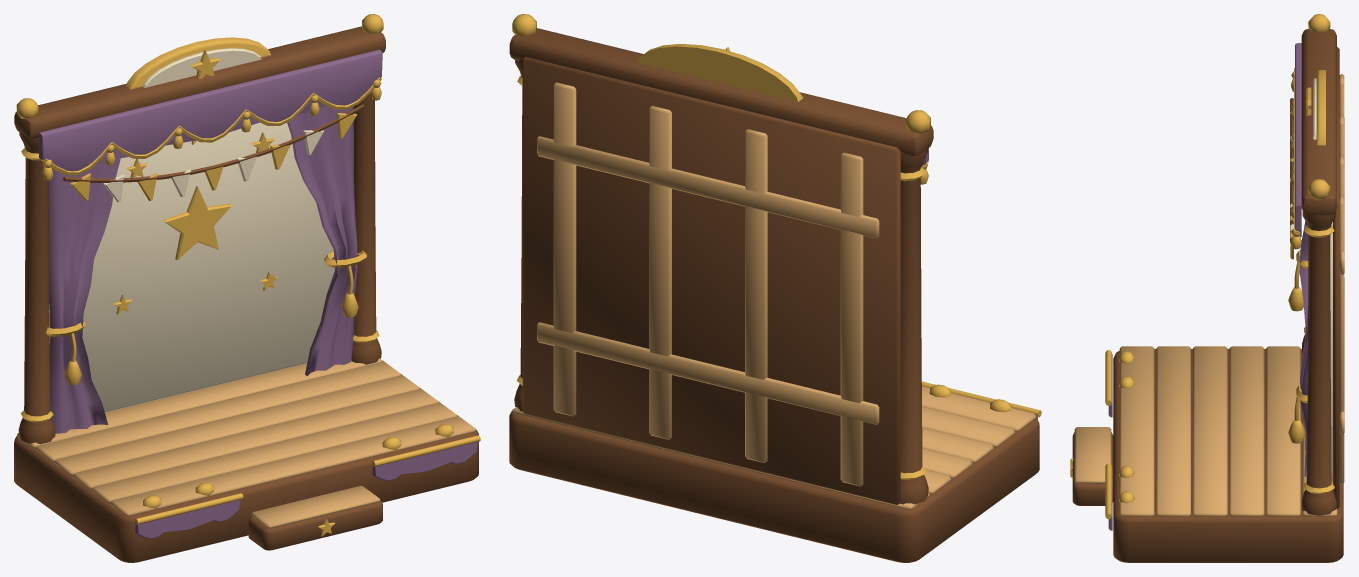
File: ShopStage.fbx
3 views of the same model, side by side, from view 1: azimuth 30°, elevation 25°; view 2: azimuth 150°, elevation 25°; view 3: azimuth 270°, elevation 25° (orthographic). The views are drawn at different scales.
Parts seen in each view (by area): view 1: ShopStage; view 2: ShopStage; view 3: ShopStage.
Part boxes in pixels (bbox=[...]): ShopStage: bbox=[14, 14, 480, 562]; ShopStage: bbox=[509, 14, 1041, 562]; ShopStage: bbox=[1070, 14, 1344, 562].
Bounding box in the file's own units: 3.04 × 3.2 × 2.03.
